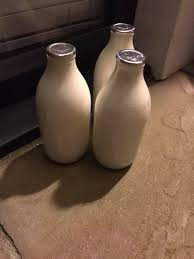milk: (94, 53, 156, 177), (36, 39, 85, 158)
